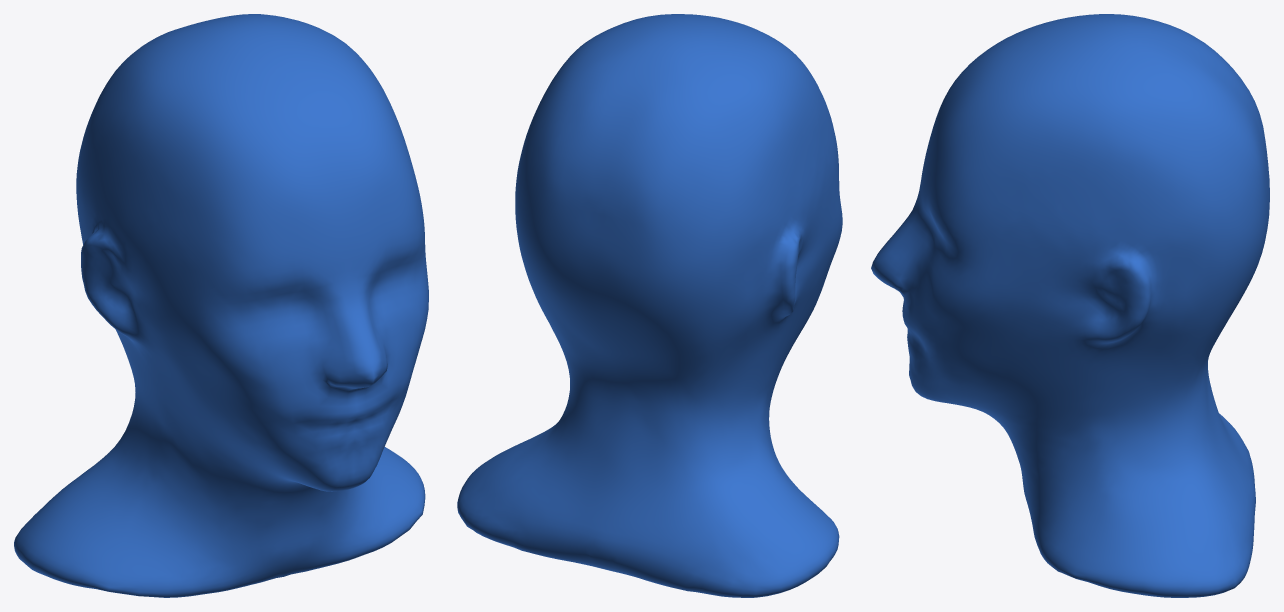
The model's file is 3DHead.dae.
3 renders of one model, left to right at view 1: azimuth 30°, elevation 25°; view 2: azimuth 150°, elevation 25°; view 3: azimuth 270°, elevation 25°, orthographic. The views are drawn at different scales.
Visible parts, largest first — view 1: BioID-Head; view 2: BioID-Head; view 3: BioID-Head.
Boxes of the visible parts, box(x1,y1,x2,y2) form: BioID-Head: box(14, 14, 428, 597); BioID-Head: box(457, 14, 842, 597); BioID-Head: box(871, 14, 1269, 597).
Size of the model in its own units: 0.9575 by 0.9296 by 1.28.
